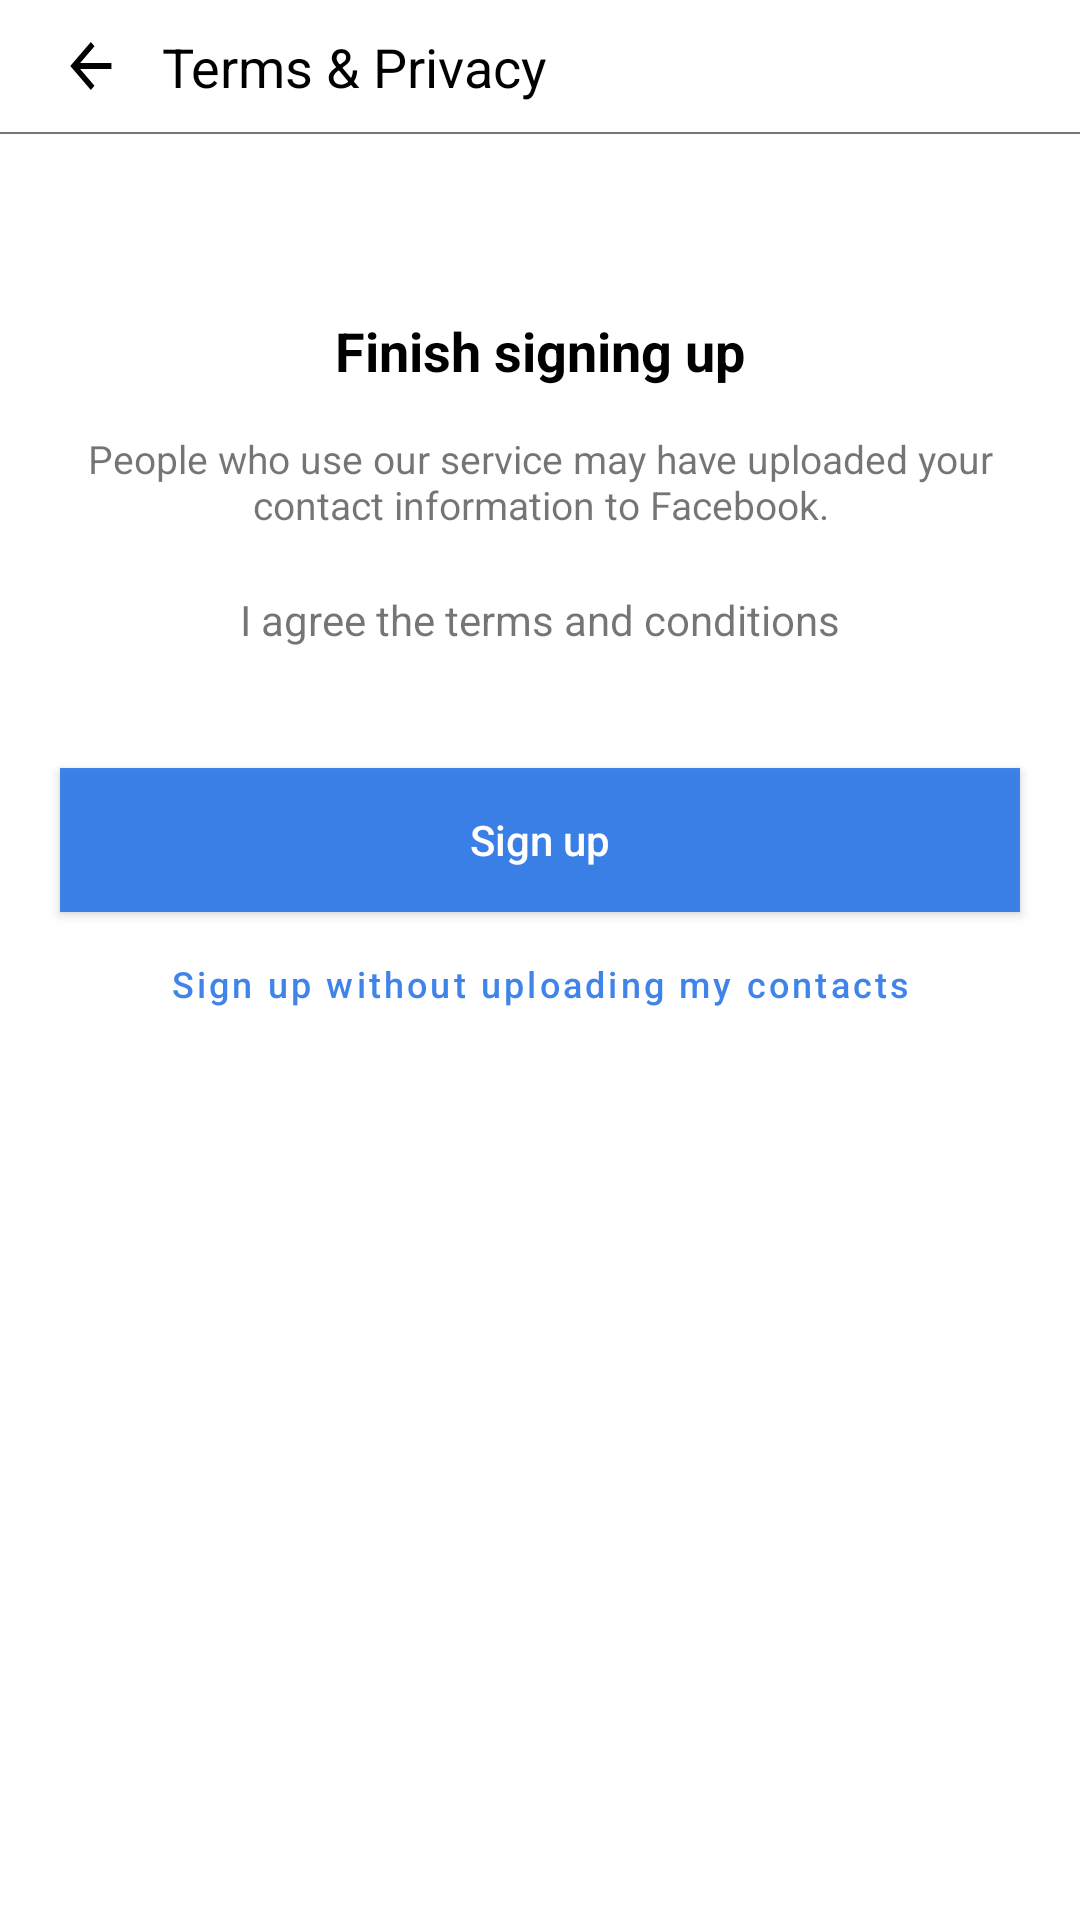

Named icons in this screenshot (1080 x 1920) and their bounding boxes, {"x1": x1, "y1": y1, "x2": x2, "y2": y2}:
arrow back: {"x1": 70, "y1": 42, "x2": 112, "y2": 90}
